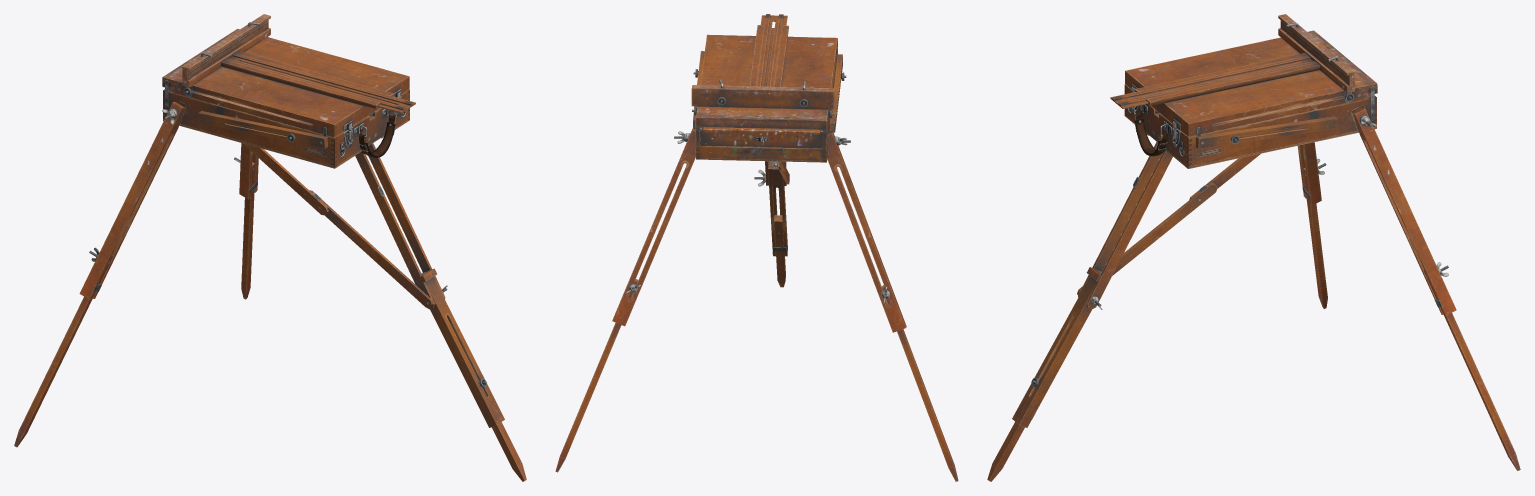
File: EaselFoldStand_SM.fbx
3 renders of one model, left to right at view 1: azimuth 30°, elevation 25°; view 2: azimuth 150°, elevation 25°; view 3: azimuth 270°, elevation 25°, orthographic. The views are drawn at different scales.
Parts seen in each view (by area): view 1: EaselFoldStand_SM; view 2: EaselFoldStand_SM; view 3: EaselFoldStand_SM.
Boxes of the visible parts, x1=… form: EaselFoldStand_SM: x1=14, y1=14, x2=526, y2=481; EaselFoldStand_SM: x1=555, y1=14, x2=958, y2=481; EaselFoldStand_SM: x1=987, y1=14, x2=1520, y2=481.
Size of the model in its own units: 96.42 by 95.61 by 124.
